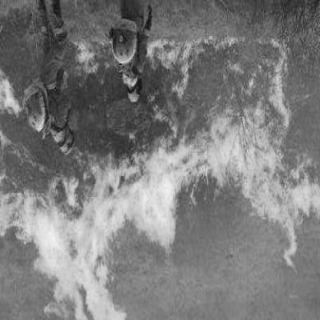Fire: (150, 40, 314, 256), (3, 153, 141, 320), (75, 37, 112, 83), (2, 72, 26, 126)
